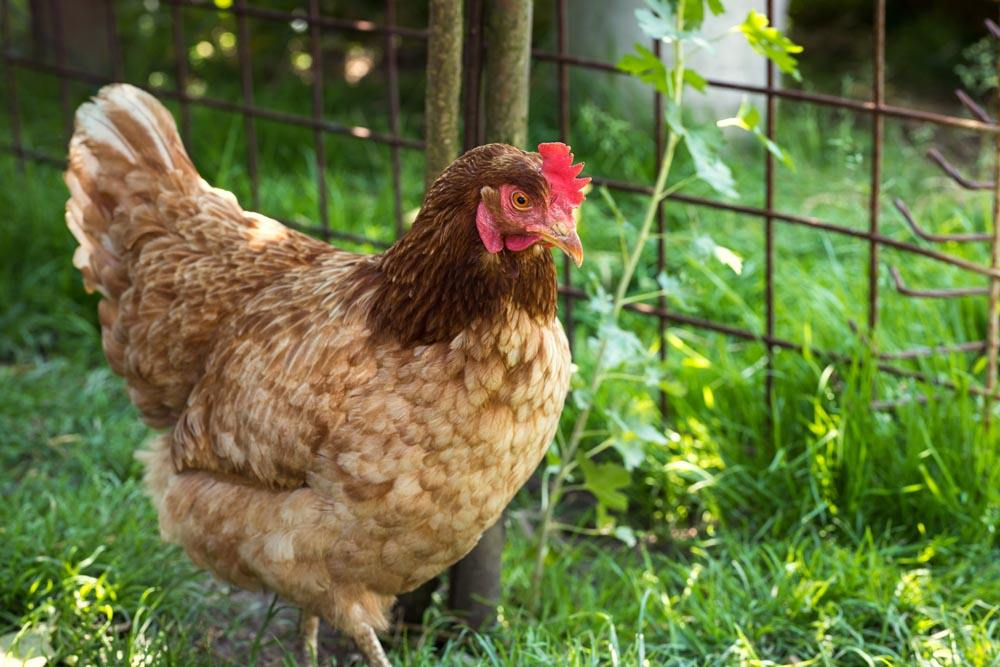chicken: (58, 72, 593, 667)
